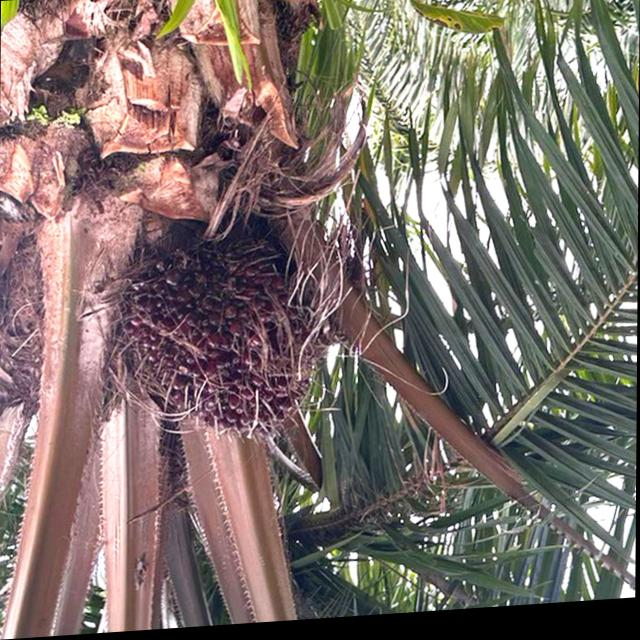ripe: (102, 225, 335, 474)
